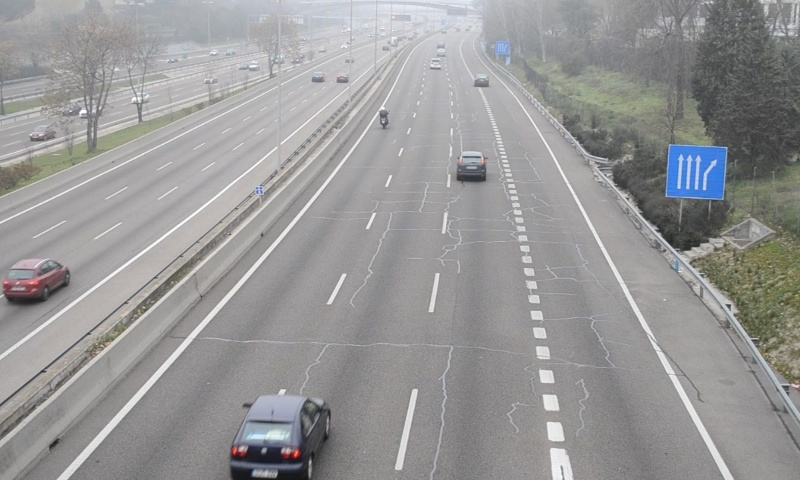car: (230, 394, 329, 480), (456, 151, 488, 182), (474, 74, 488, 88)
motorcycle: (378, 106, 389, 130)
